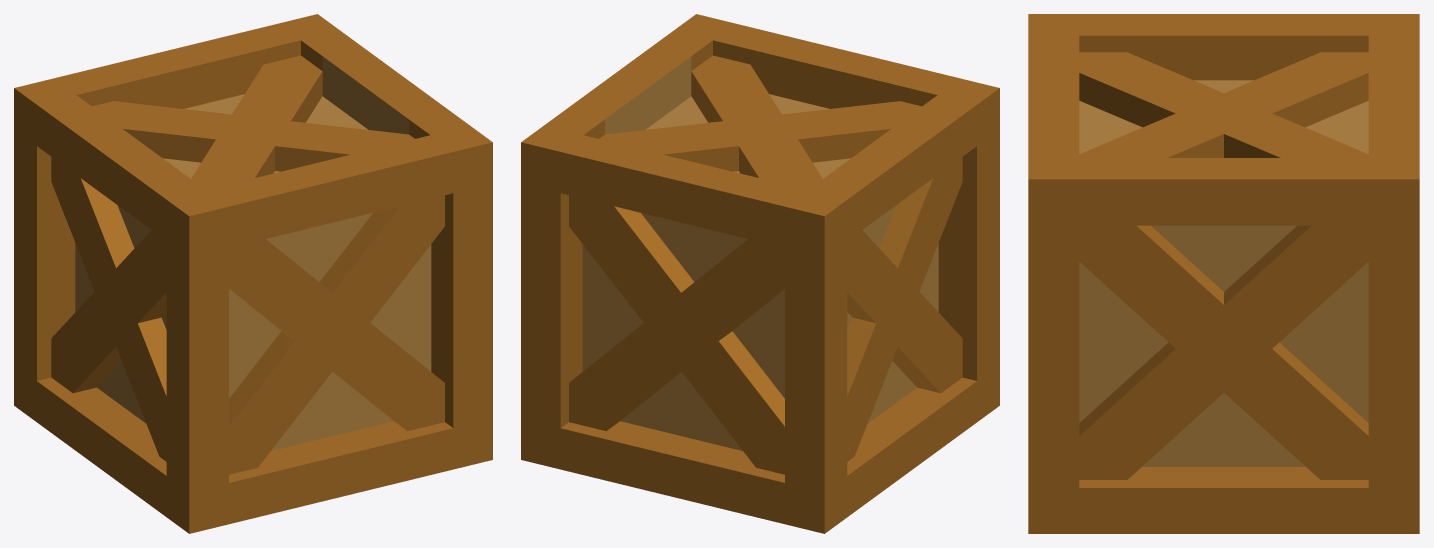
File: caja.fbx
3 renders of one model, left to right at view 1: azimuth 30°, elevation 25°; view 2: azimuth 150°, elevation 25°; view 3: azimuth 270°, elevation 25°, orthographic. The views are drawn at different scales.
Parts seen in each view (by area): view 1: Cube; view 2: Cube; view 3: Cube.
Boxes of the visible parts, left/top/right/bottom form: Cube: left=14, top=14, right=492, bottom=533; Cube: left=521, top=14, right=999, bottom=533; Cube: left=1028, top=14, right=1419, bottom=533.
Size of the model in its own units: 200 by 200 by 200.
